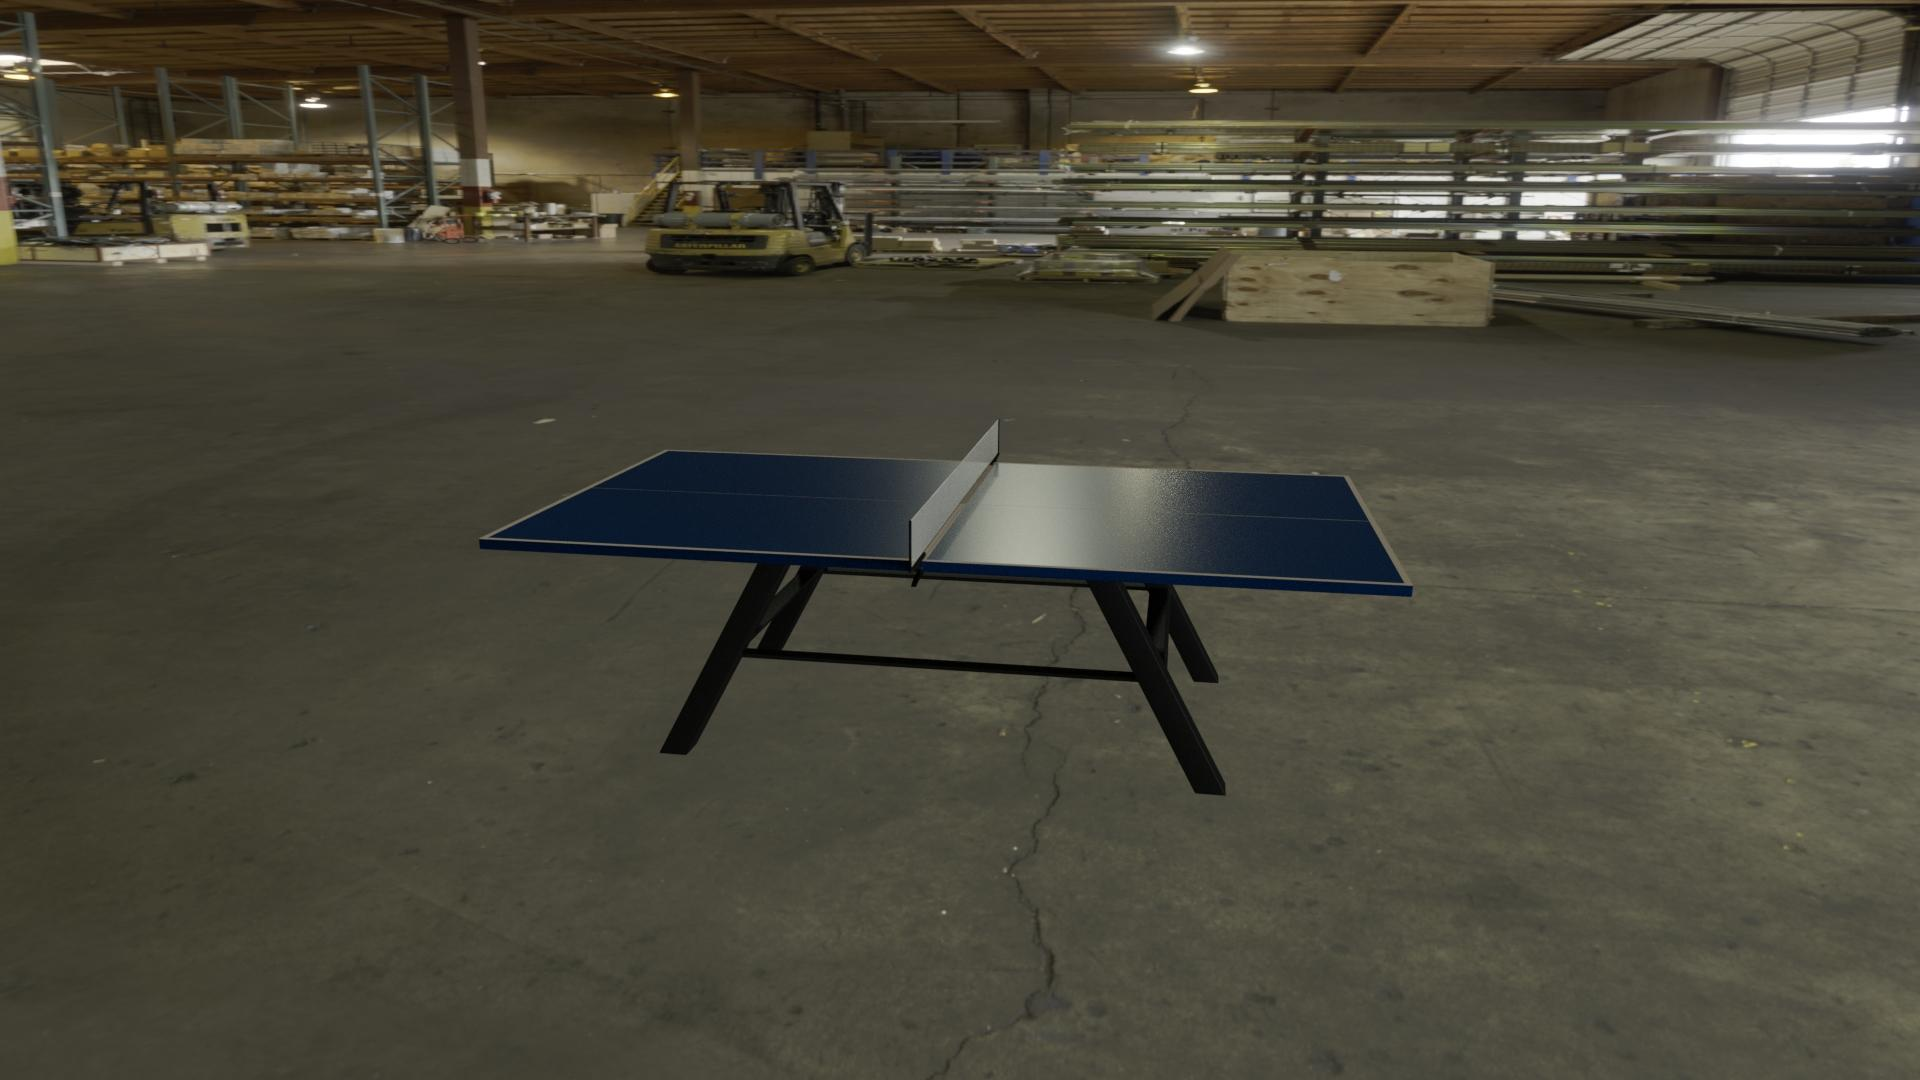table: (488, 451, 1404, 583)
